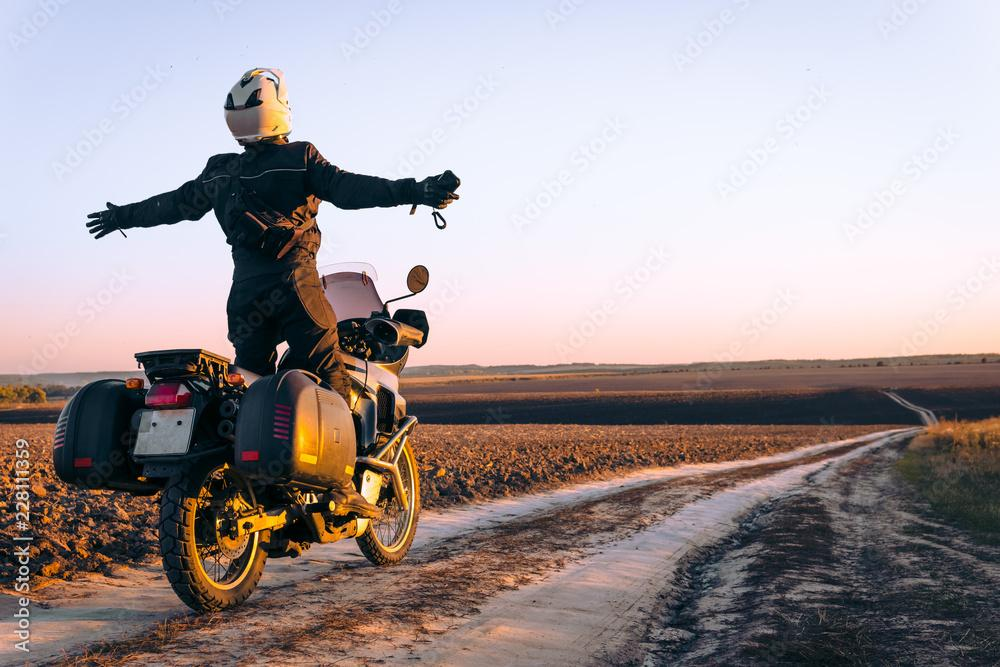helmet: (223, 66, 294, 147)
